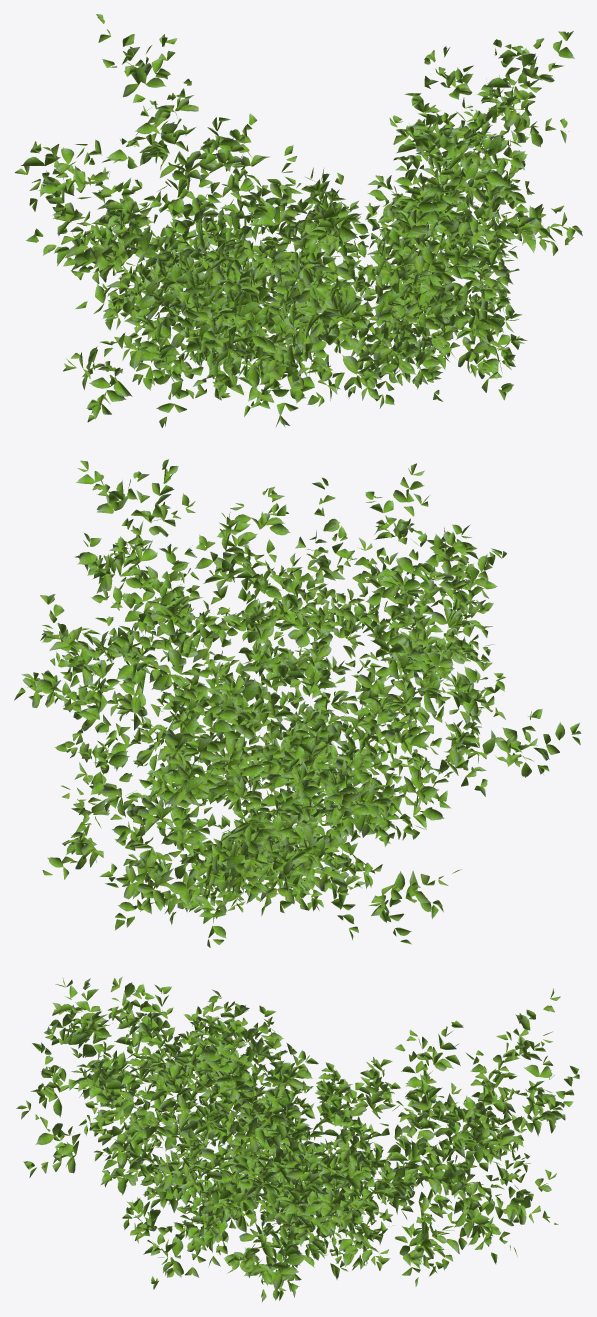
Rendered from tree_c.glb.
3 views of the same model, one above another, from view 1: azimuth 30°, elevation 25°; view 2: azimuth 150°, elevation 25°; view 3: azimuth 270°, elevation 25° (orthographic). The views are drawn at different scales.
Parts seen in each view (by area): view 1: Object_27; view 2: Object_27; view 3: Object_27.
Part boxes in pixels (x1,y1,x2,y2): Object_27: (15,14,582,427); Object_27: (14,459,581,947); Object_27: (16,976,579,1302).
Size of the model in its own units: 2.28 by 1.66 by 2.59.
1 material, 1 textured.
